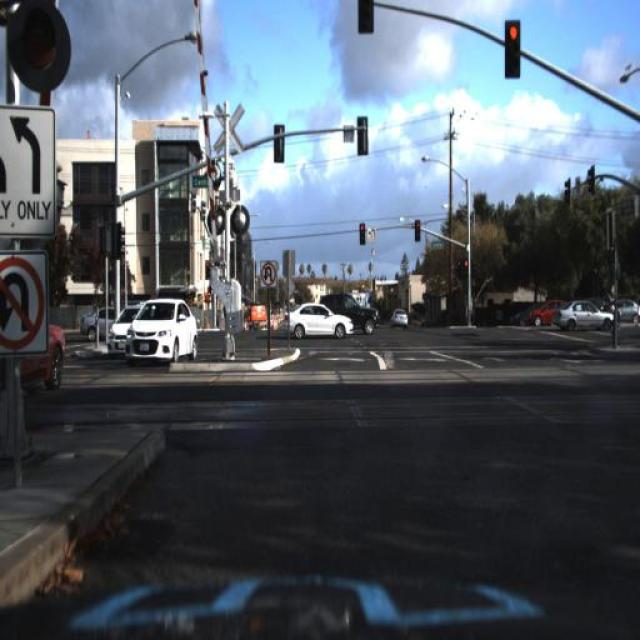car: (121, 298, 198, 364), (283, 298, 352, 347), (104, 300, 154, 359), (76, 302, 139, 342), (105, 304, 149, 358), (327, 290, 378, 335), (529, 296, 575, 330), (504, 300, 544, 326), (508, 300, 542, 328)
trafficLight-Green: (12, 1, 68, 87), (356, 1, 376, 34)
trafficLight-RedLeft: (503, 18, 522, 78), (412, 213, 423, 246), (357, 218, 367, 248), (462, 252, 471, 284), (414, 216, 420, 242)
